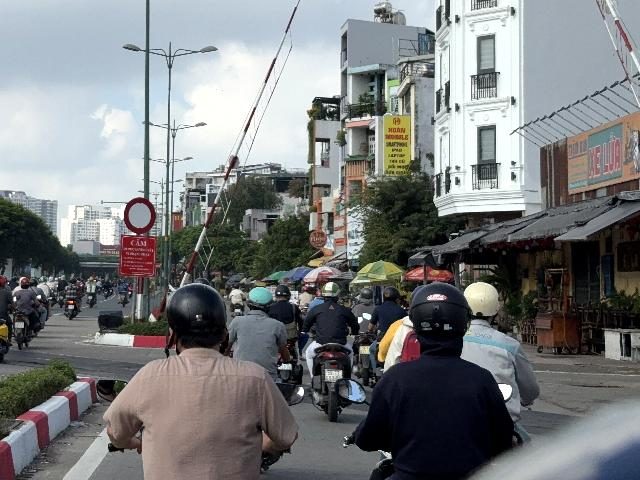duong-cam: (123, 198, 155, 234)
